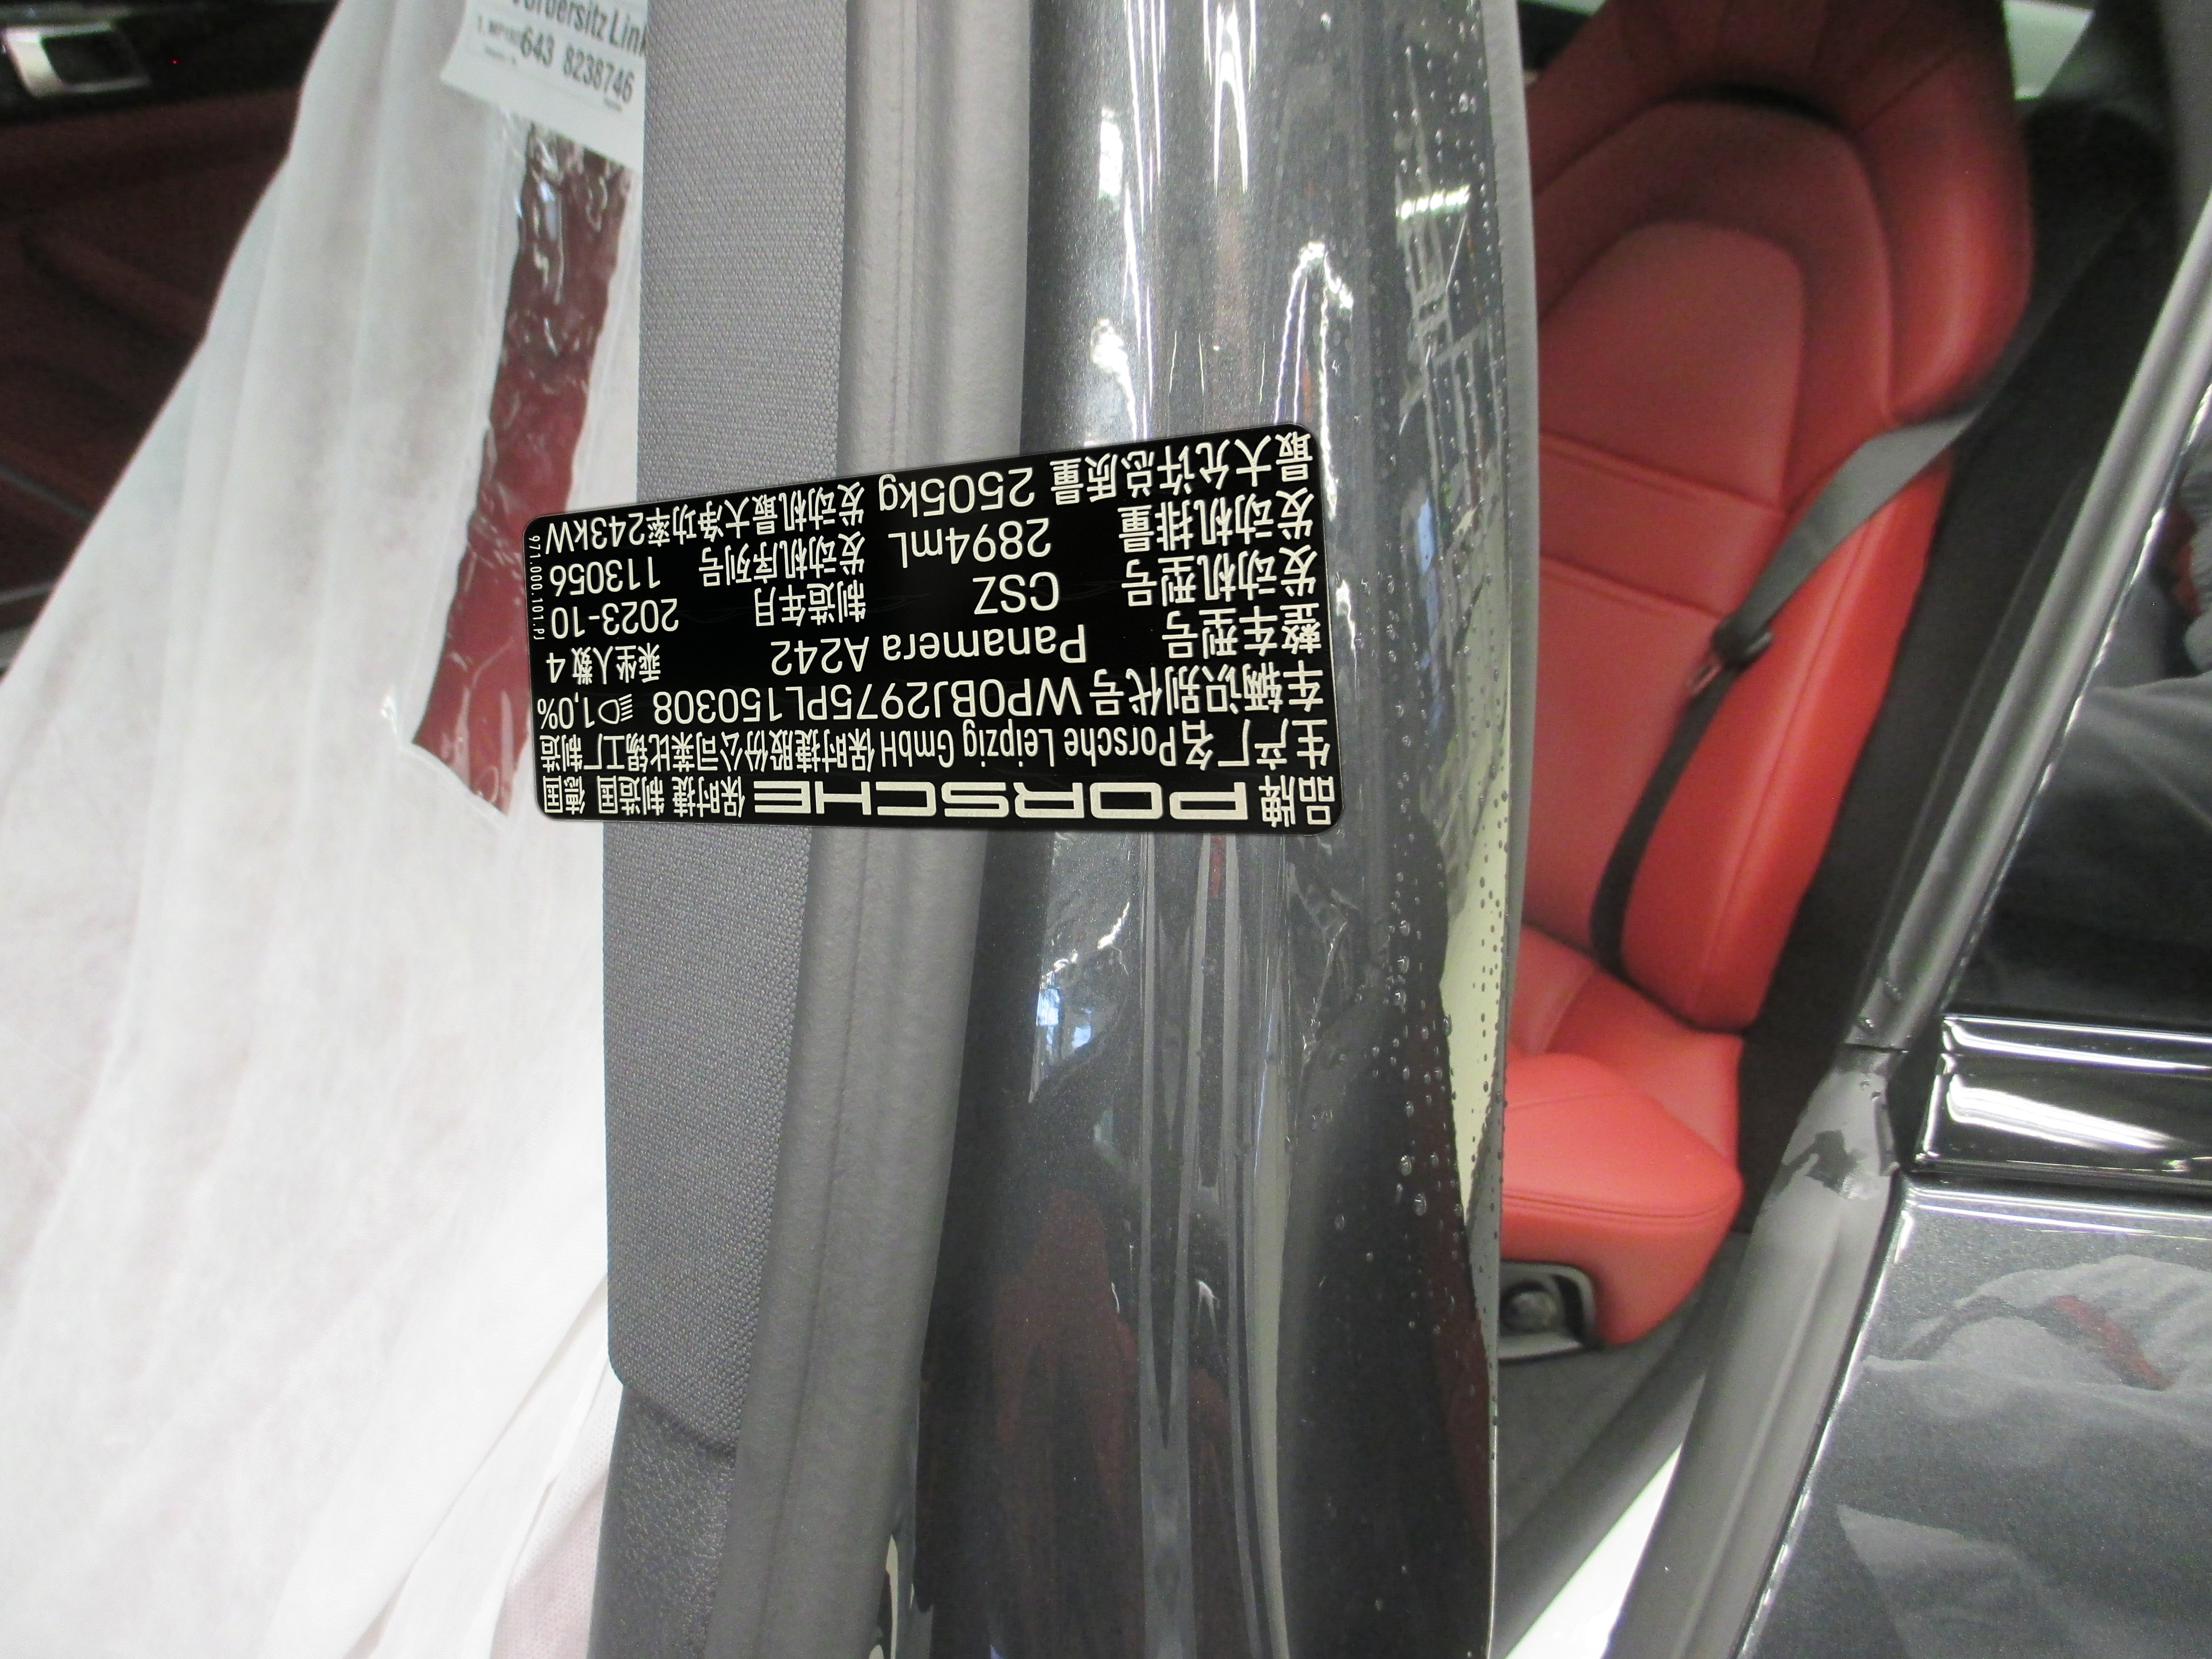Typlabel-China: (523, 422, 1343, 835)
